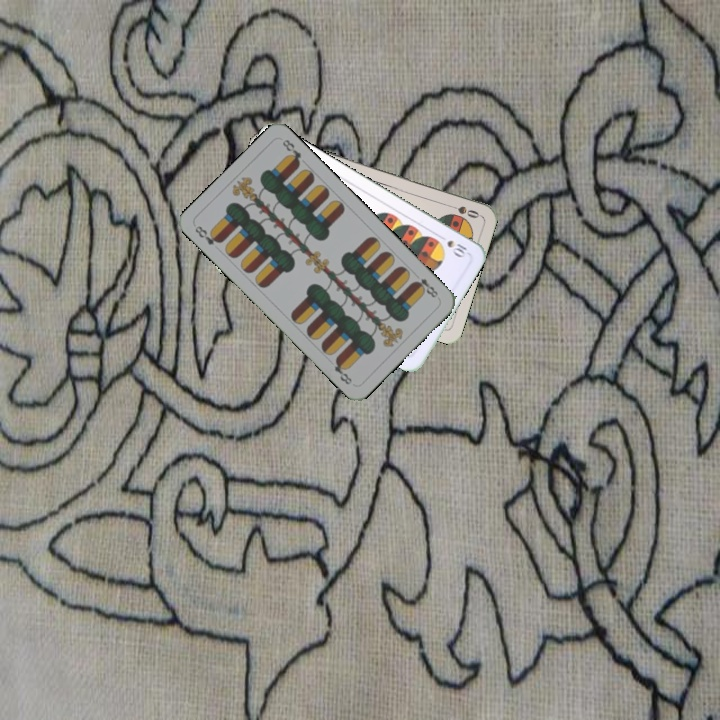E8: (191, 222, 224, 248), (409, 274, 441, 300)
S10: (434, 231, 471, 260)
SO: (443, 200, 482, 221)
